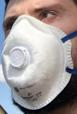with_mask: (1, 1, 77, 114)
